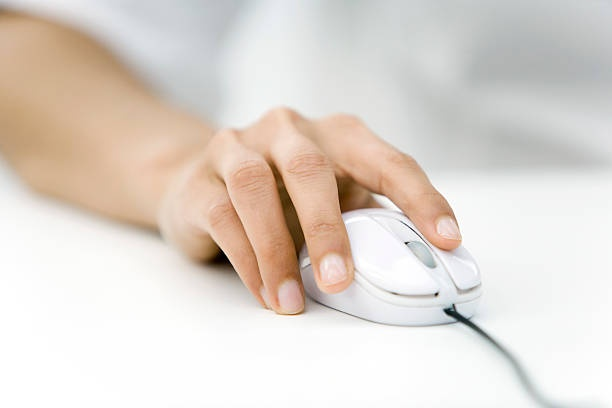mouse: (283, 197, 486, 330)
